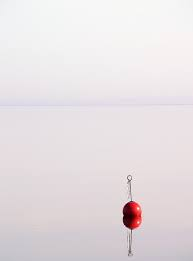buoy: (122, 201, 142, 217)
